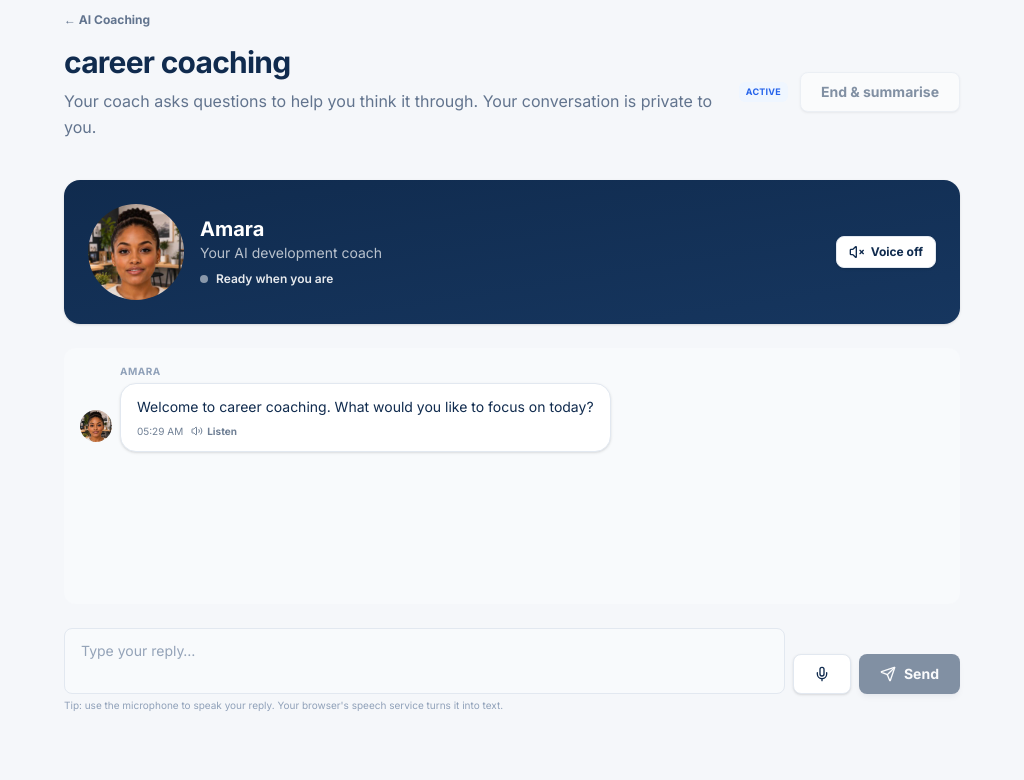
AI Coaching › keeps the draft message when sending fails
The image size is (1024, 780).
Type "Hello coach" into the text box named "Message" at (424, 661), box left=64, top=628, right=785, bottom=694
Then press Enter
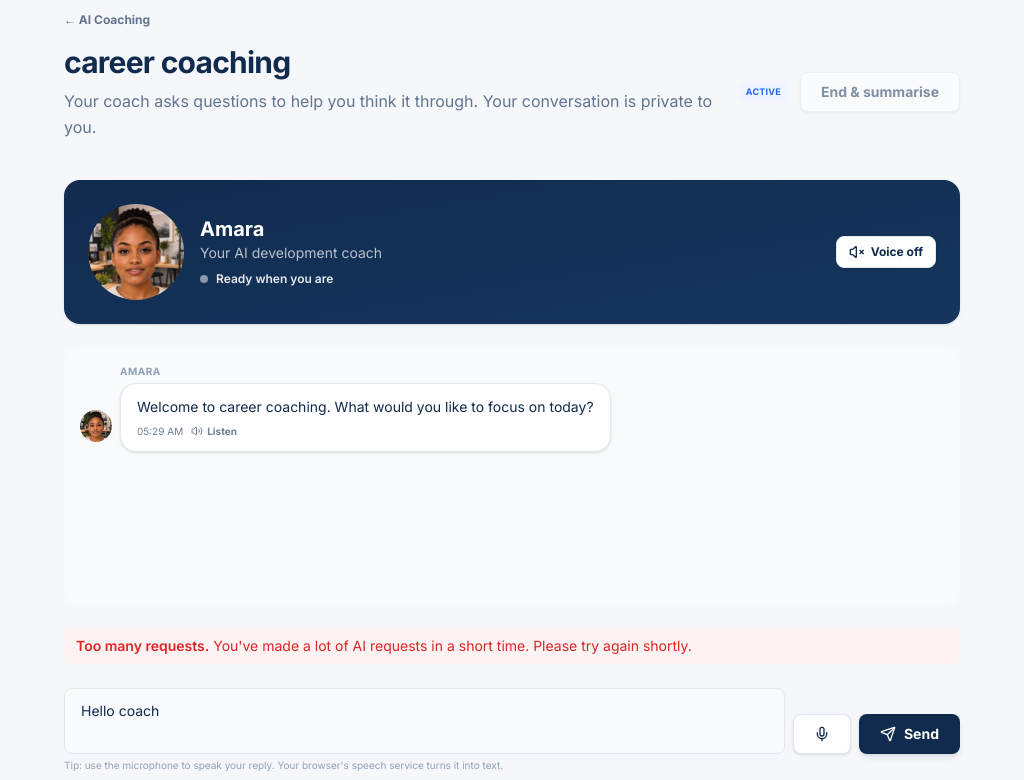
Expected: the text "Too many requests." is shown, left=76, top=637, right=209, bottom=654
